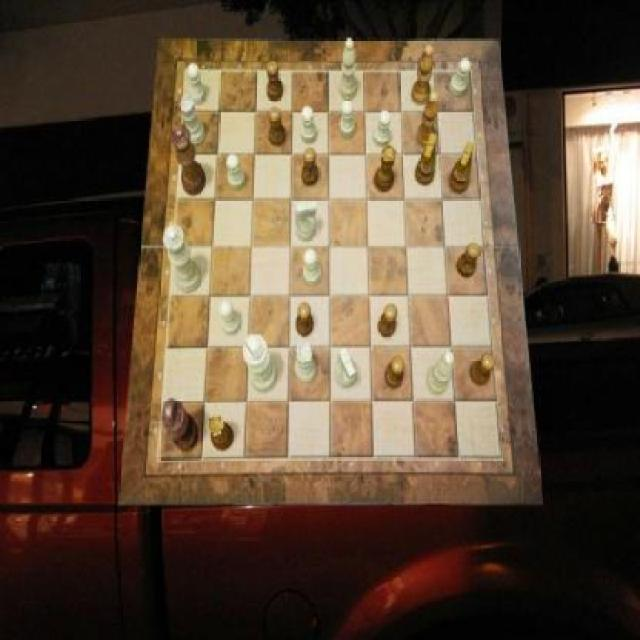bishop: (411, 45, 434, 106), (417, 91, 440, 149)
black-bishop: (162, 398, 198, 452)
black-king: (450, 141, 476, 194), (416, 134, 438, 186)
black-knight: (471, 354, 497, 388), (457, 242, 481, 278), (378, 304, 398, 338), (268, 108, 285, 148), (303, 148, 320, 186), (386, 357, 406, 389), (268, 62, 284, 102), (295, 302, 313, 336)
black-pawn: (171, 125, 206, 197)
black-queen: (374, 146, 396, 194), (208, 416, 235, 452)
black-rook: (428, 350, 454, 394), (339, 37, 356, 99)
white-bishop: (243, 334, 279, 392)
white-king: (295, 198, 318, 241), (336, 348, 358, 388)
white-knight: (449, 59, 472, 96), (187, 63, 206, 105), (218, 302, 241, 336), (227, 154, 246, 190), (303, 250, 321, 286), (300, 106, 317, 144), (374, 109, 391, 147), (338, 100, 354, 138)
white-pawn: (163, 226, 202, 294)
white-queen: (178, 97, 206, 146), (295, 343, 318, 385)
